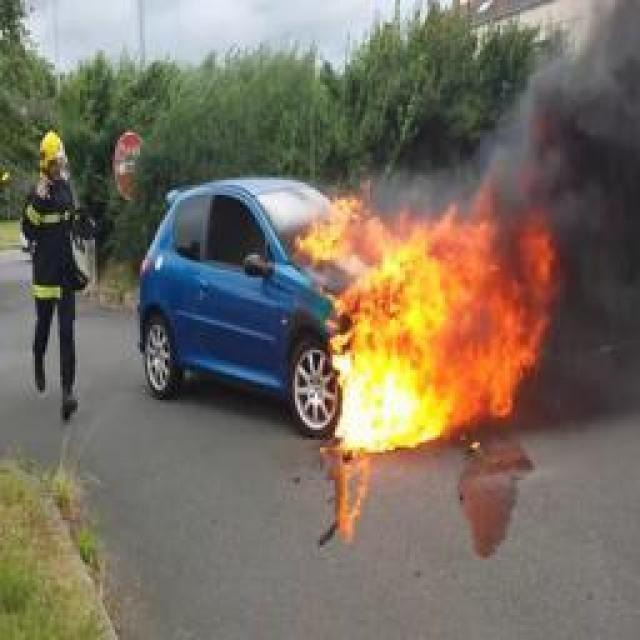Fire: (300, 192, 558, 452)
